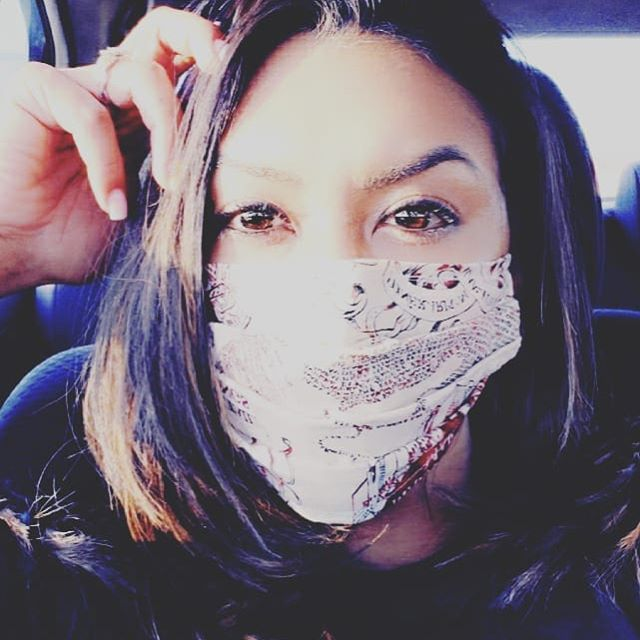homemade: (166, 248, 540, 525)
